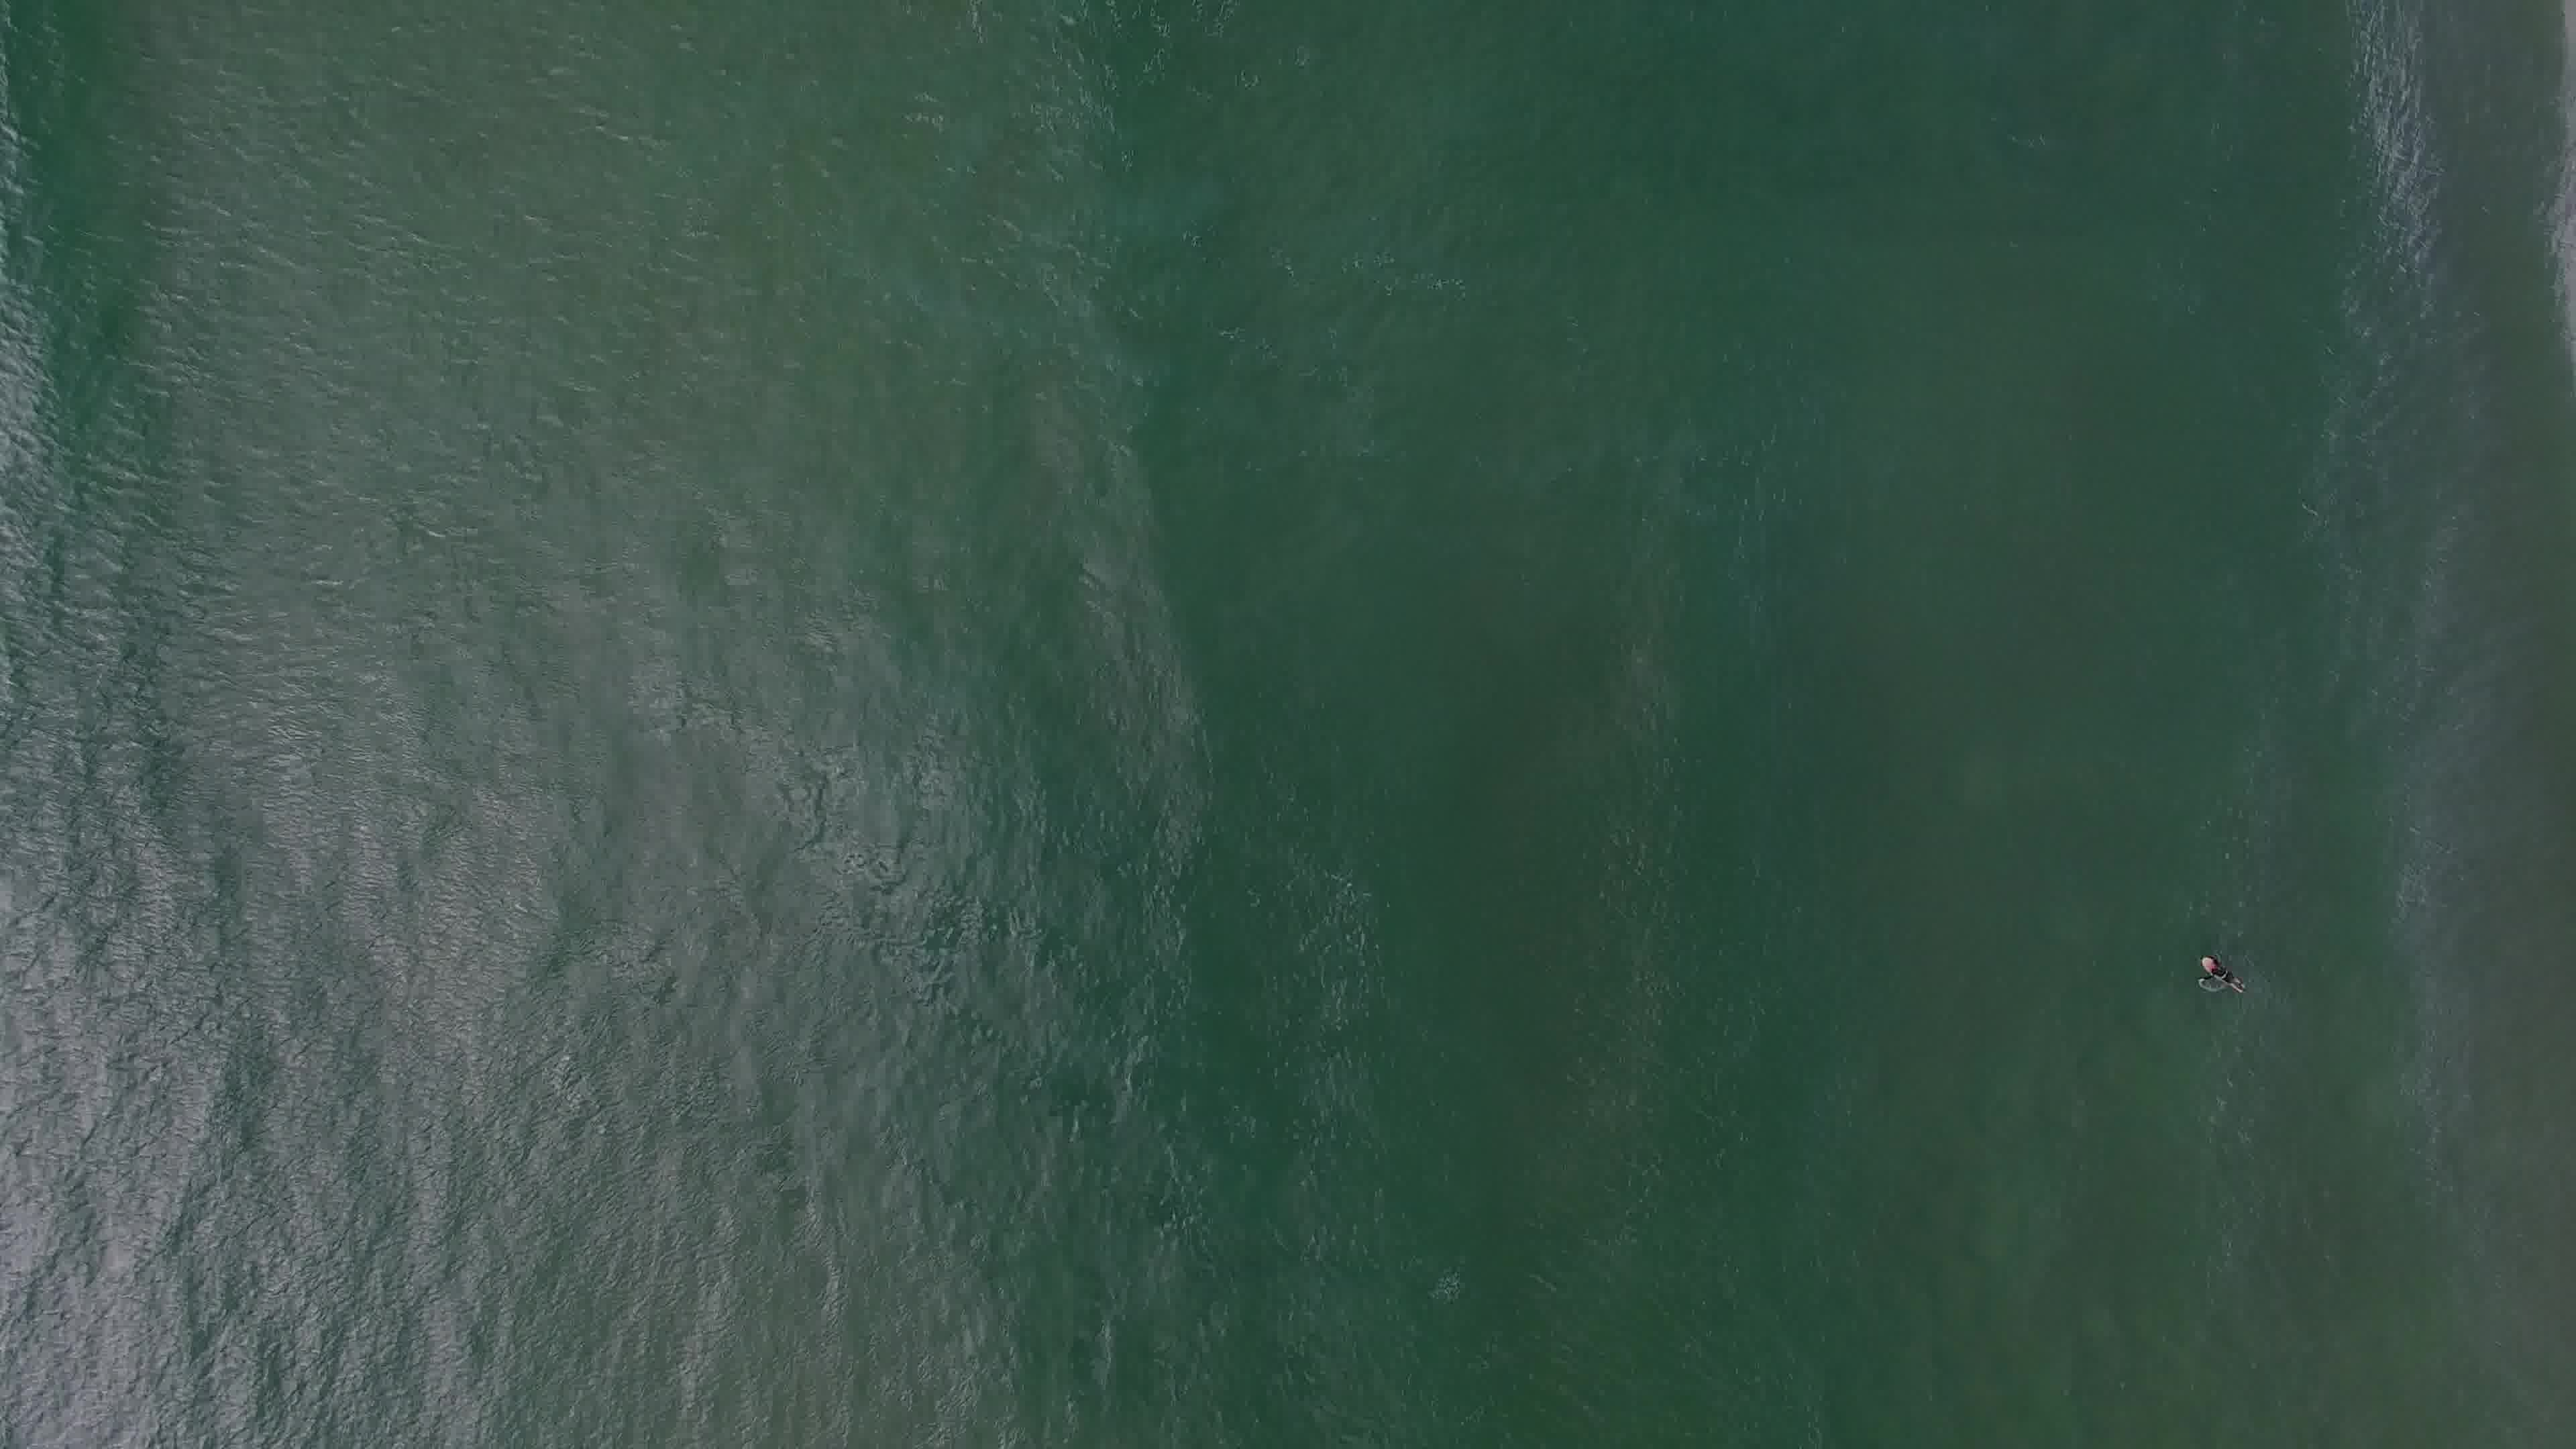surfer: (2183, 950, 2256, 1001)
